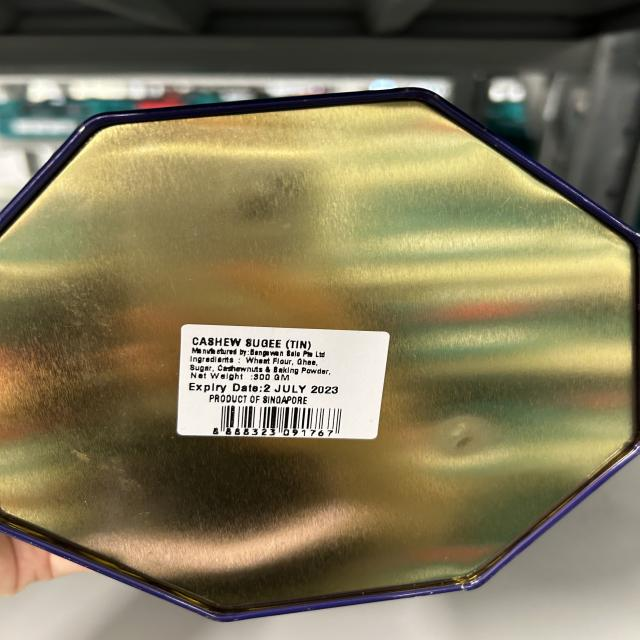object_name: (3, 106, 640, 607)
